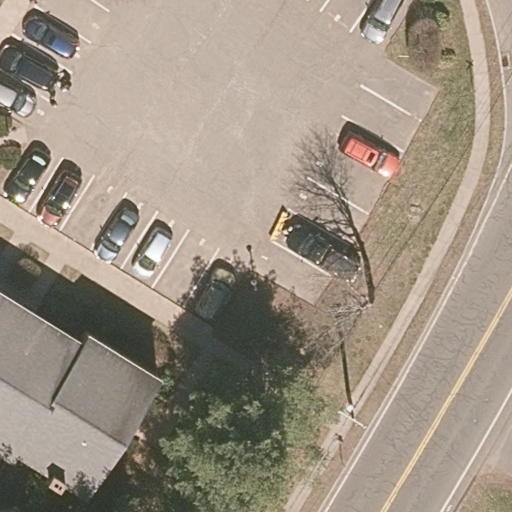DT: (334, 404, 367, 430)
